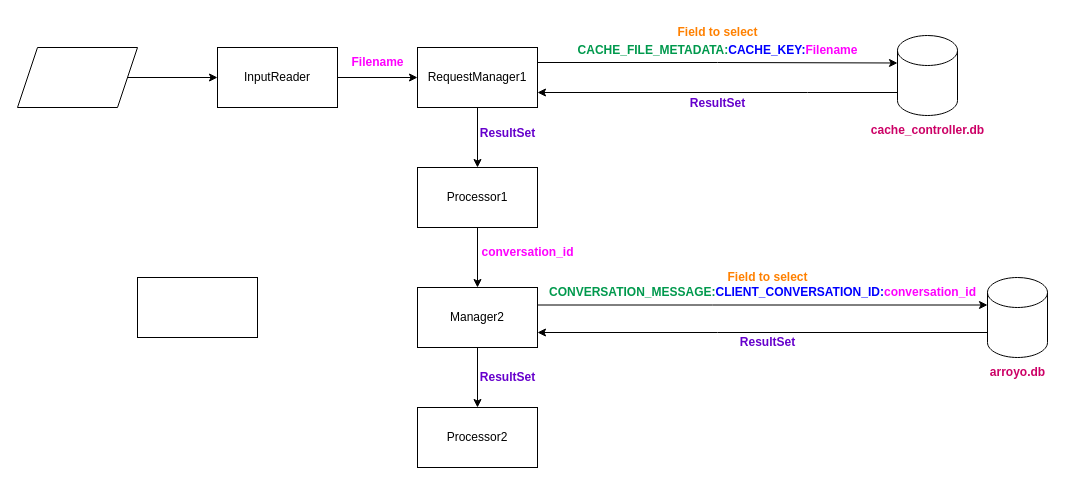
Some shapes in this 1075 by 485 pixel diagram are drawn without their labels. Each missing label, with the centre of its shape:
Input (Folder): (77,77)
JobManager: (197,307)
